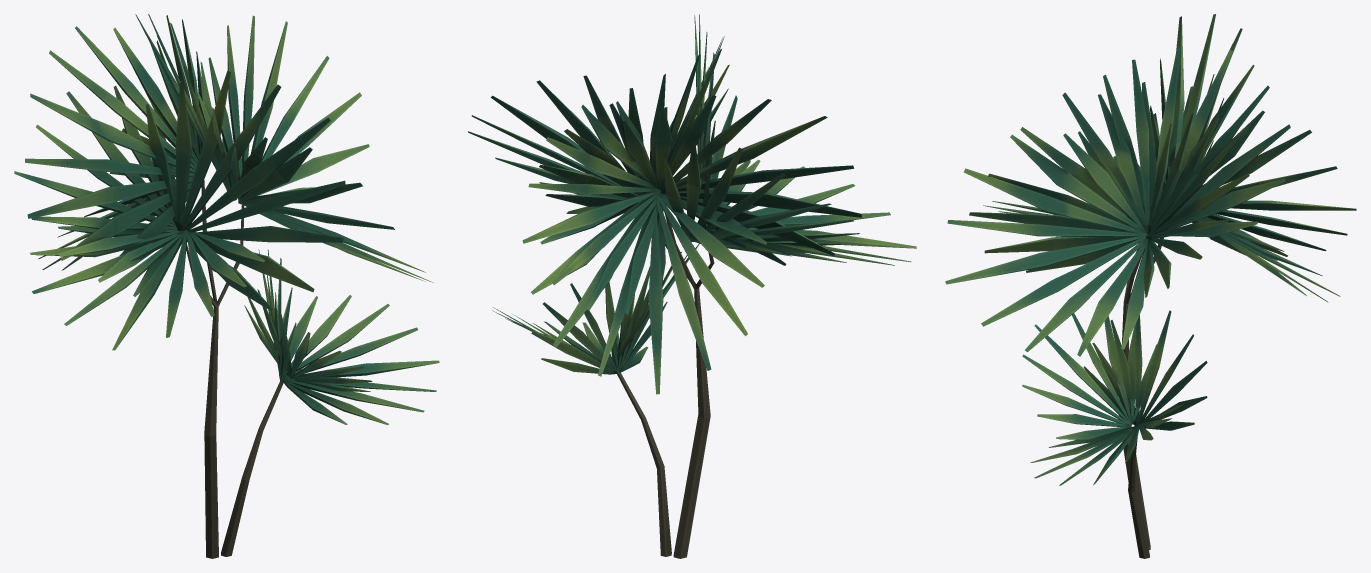
The model's file is lady-palm.glb.
3 renders of one model, left to right at view 1: azimuth 30°, elevation 25°; view 2: azimuth 150°, elevation 25°; view 3: azimuth 270°, elevation 25°, orthographic. The views are drawn at different scales.
Parts seen in each view (by area): view 1: polySurface16; view 2: polySurface16; view 3: polySurface16.
Boxes of the visible parts, left/top/right/bottom form: polySurface16: left=14, top=14, right=439, bottom=558; polySurface16: left=468, top=14, right=916, bottom=558; polySurface16: left=945, top=14, right=1356, bottom=558.
Bounding box in the file's own units: 13.02 × 16.28 × 12.49.
Materials: 1 (1 with a texture image).
